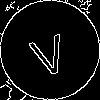V: (25, 25, 71, 79)
